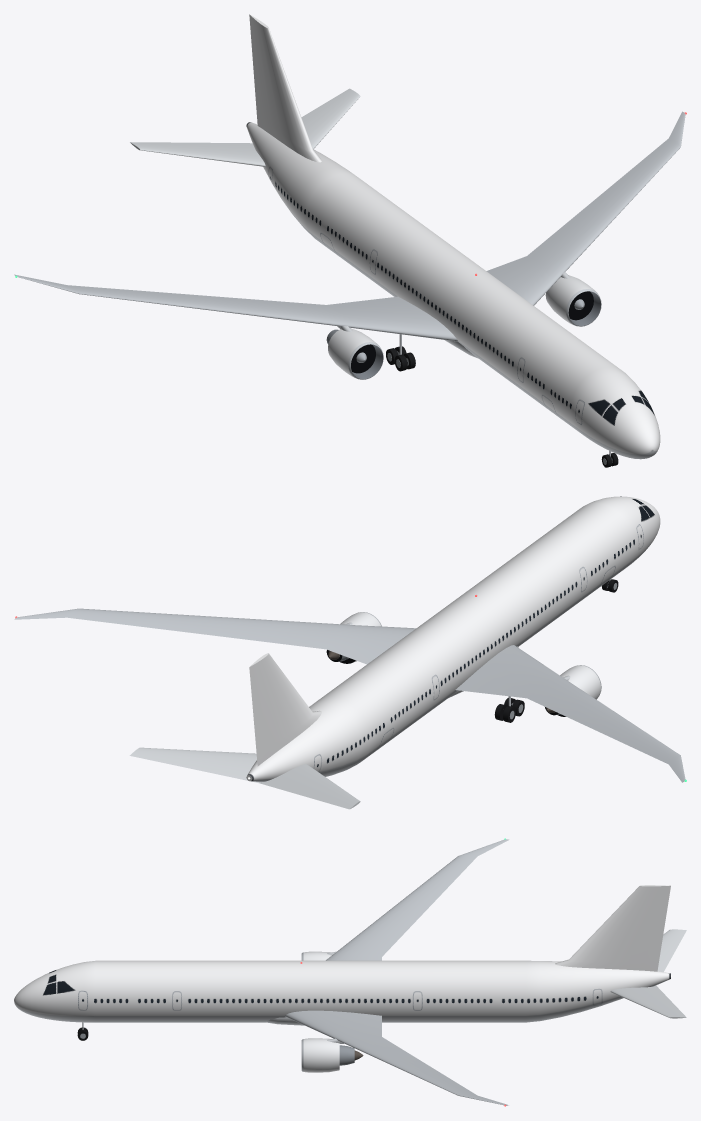
3 views of the same model, one above another, from view 1: azimuth 30°, elevation 25°; view 2: azimuth 150°, elevation 25°; view 3: azimuth 270°, elevation 25° (orthographic). The views are drawn at different scales.
Parts seen in each view (by area): view 1: body, gear; view 2: body, gear; view 3: body.
Boxes of the visible parts, x1,y1,x2,y2 form: body: (14, 14, 686, 459); gear: (386, 334, 618, 467); body: (14, 496, 686, 809); gear: (494, 579, 618, 722); body: (14, 838, 686, 1106).
Size of the model in its own units: 60.42 by 16.15 by 64.34.
Materials: 19 (1 with a texture image).
